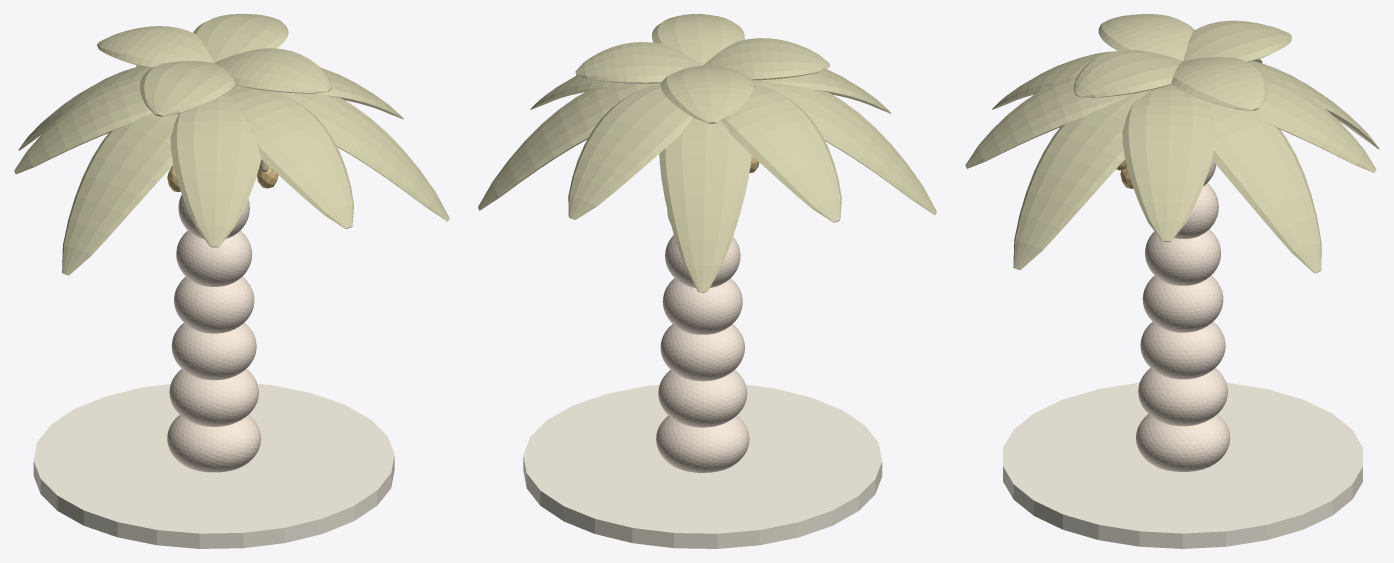
The model's file is date_palm.glb.
3 views of the same model, side by side, from view 1: azimuth 30°, elevation 25°; view 2: azimuth 150°, elevation 25°; view 3: azimuth 270°, elevation 25° (orthographic).
Visible parts, largest first — view 1: Base, Leaf_8, Leaf_7, Leaf_0, Leaf_1, Leaf_6, Trunk_0, Trunk_1, LeafTop_3, LeafTop_0, Trunk_2, Trunk_3 (+6 smaller); view 2: Base, Leaf_5, Leaf_6, Leaf_4, Leaf_7, Leaf_3, Trunk_0, LeafTop_2, Trunk_1, Trunk_2, LeafTop_1, LeafTop_3 (+5 smaller); view 3: Base, Leaf_2, Leaf_3, Leaf_1, Leaf_0, Leaf_4, Trunk_0, Trunk_1, LeafTop_1, LeafTop_0, Trunk_2, Trunk_3 (+6 smaller).
Part boxes in pixels (x1,y1,x2,y2): Base: (33,384,394,548); Leaf_8: (170,92,261,247); Leaf_7: (62,113,178,275); Leaf_0: (226,87,353,228); Leaf_1: (233,85,449,221); Leaf_6: (14,76,152,174); Trunk_0: (167,415,261,472); Trunk_1: (169,368,258,426); LeafTop_3: (140,61,235,116); LeafTop_0: (214,48,331,93); Trunk_2: (171,322,256,380); Trunk_3: (174,276,254,333); Base: (523,385,882,548); Leaf_5: (659,117,751,292); Leaf_6: (722,85,841,222); Leaf_4: (568,84,692,219); Leaf_7: (752,80,936,215); Leaf_3: (478,83,660,210); Trunk_0: (656,415,749,472); LeafTop_2: (660,65,753,123); Trunk_1: (658,369,747,427); Trunk_2: (660,324,744,381); LeafTop_1: (575,42,702,83); LeafTop_3: (703,38,829,80); Base: (1003,382,1362,548); Leaf_2: (1122,84,1216,241); Leaf_3: (1200,98,1321,273); Leaf_1: (1013,90,1151,270); Leaf_0: (965,76,1129,168); Leaf_4: (1238,75,1376,172); Trunk_0: (1136,414,1230,471); Trunk_1: (1138,368,1227,426); LeafTop_1: (1171,57,1267,110); LeafTop_0: (1074,49,1182,97); Trunk_2: (1140,321,1225,379); Trunk_3: (1142,275,1223,332).
Size of the model in its own units: 1.14 by 1.24 by 1.1.
